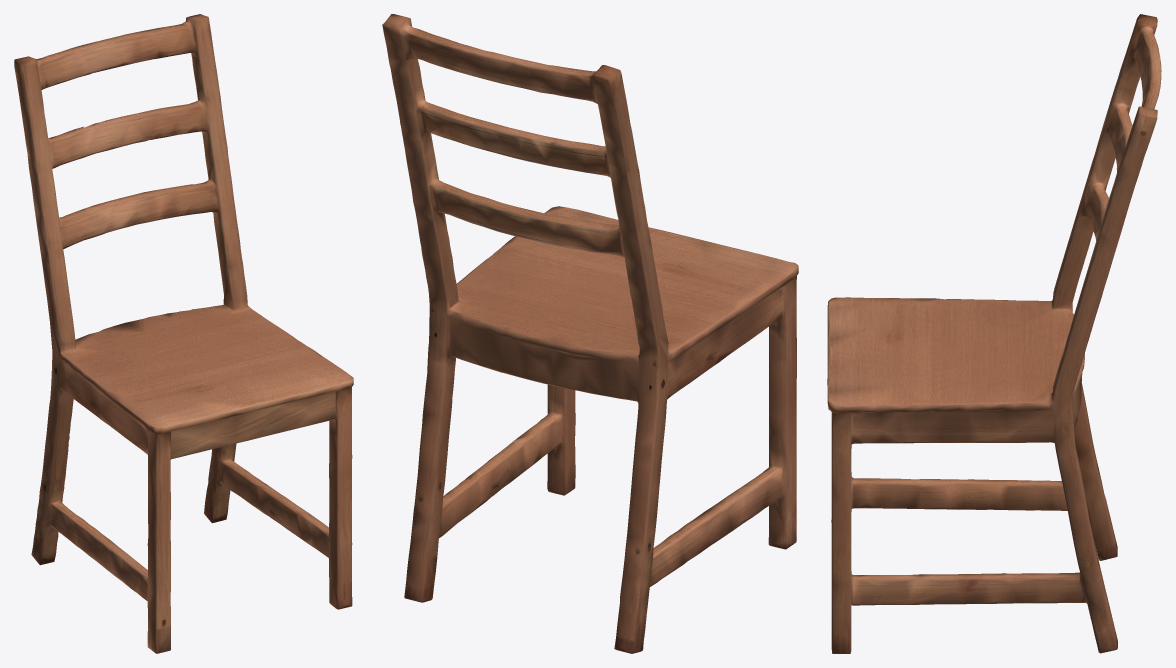
Rendered from 61efd8fa-1935-401e-9fd5-5ce45a880954.glb.
3 renders of one model, left to right at view 1: azimuth 30°, elevation 25°; view 2: azimuth 150°, elevation 25°; view 3: azimuth 270°, elevation 25°, orthographic. The views are drawn at different scales.
Parts seen in each view (by area): view 1: Mesh_0; view 2: Mesh_0; view 3: Mesh_0.
Part boxes in pixels (<box>): Mesh_0: <box>14,14,353,653</box>; Mesh_0: <box>382,14,798,653</box>; Mesh_0: <box>827,14,1161,653</box>.
Size of the model in its own units: 0.8295 by 1.91 by 1.07.
1 material, 1 textured.
